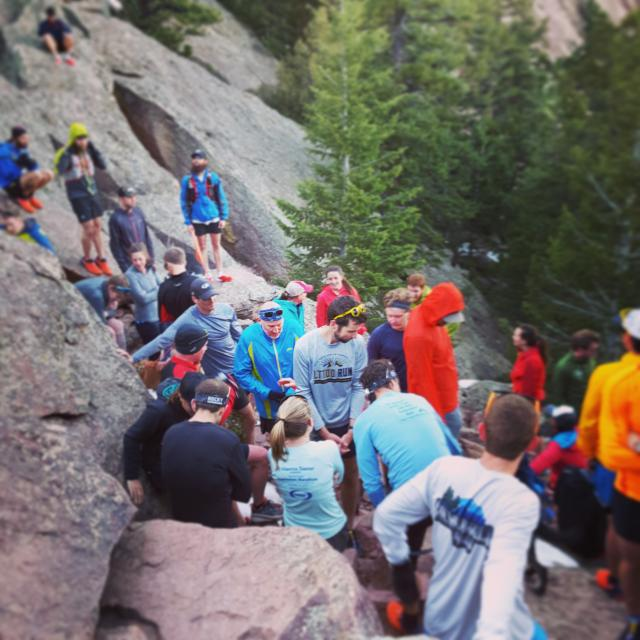body: (358, 386, 560, 640), (351, 357, 464, 636), (121, 371, 285, 521), (528, 357, 630, 596), (114, 276, 258, 445), (288, 293, 374, 562), (267, 394, 360, 554), (158, 377, 255, 530), (591, 306, 637, 599), (156, 319, 258, 451), (47, 120, 115, 278), (402, 280, 468, 440), (233, 300, 308, 436), (176, 148, 234, 284), (508, 324, 548, 486), (366, 287, 415, 393), (122, 241, 164, 363), (0, 123, 54, 215), (73, 273, 132, 352), (550, 328, 601, 418), (108, 185, 158, 274), (315, 265, 368, 336), (157, 247, 205, 324), (406, 273, 460, 337), (35, 6, 77, 66), (271, 279, 315, 331)
